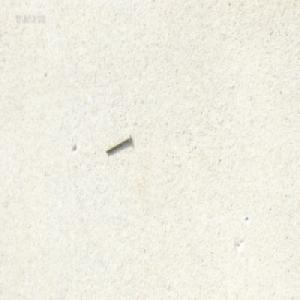Bolt: (104, 132, 130, 154)
